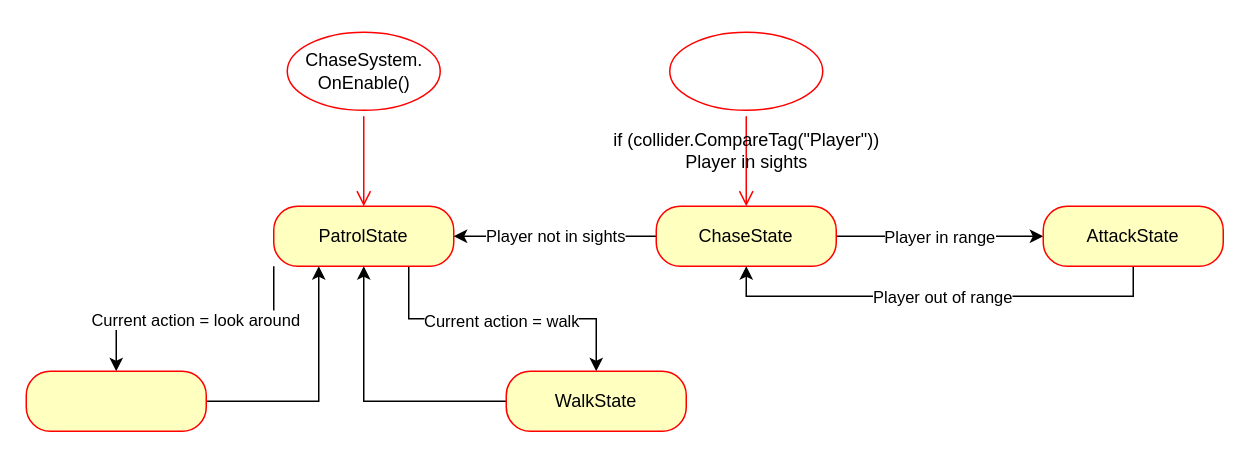
The diagram is 1250 pixels wide and 458 high, and some of its shapes have lost their labels. Each missing label, with the centre of its shape:
"DetectorAura. OnTriggerEnter" belongs at point (745, 70).
"LookAroundState" belongs at point (115, 400).
